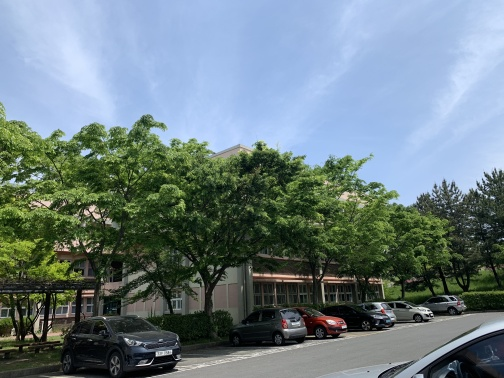College Of Education: (54, 142, 408, 334)
